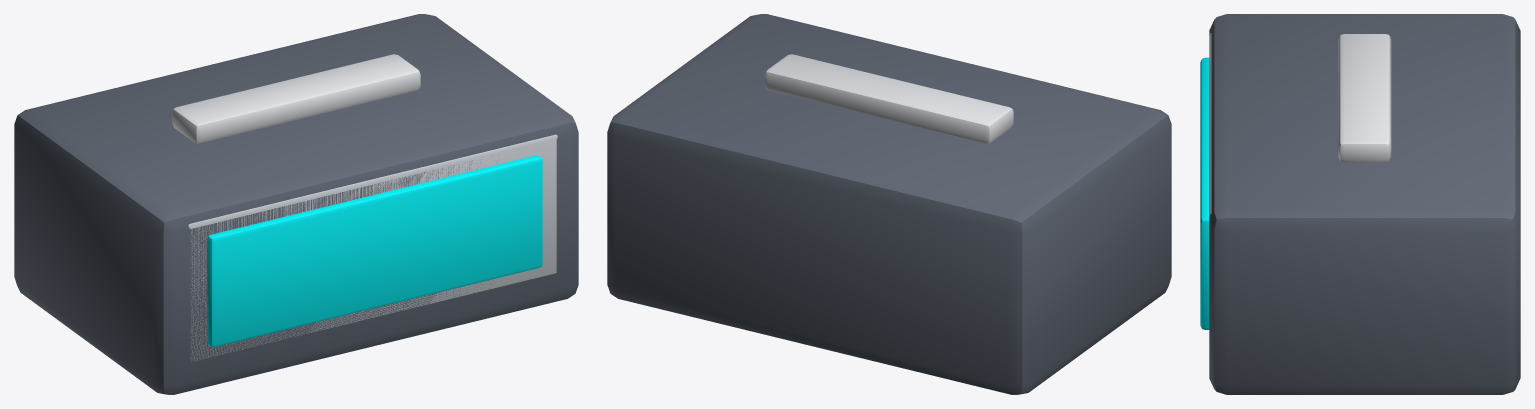
Rendered from hall_voltmeter.glb.
3 views of the same model, side by side, from view 1: azimuth 30°, elevation 25°; view 2: azimuth 150°, elevation 25°; view 3: azimuth 270°, elevation 25° (orthographic).
Parts seen in each view (by area): view 1: Cube; view 2: Cube; view 3: Cube.
Boxes of the visible parts, bbox=[...] form: Cube: bbox=[14, 14, 578, 394]; Cube: bbox=[607, 14, 1171, 394]; Cube: bbox=[1200, 14, 1520, 394].
Bounding box in the file's own units: 1.68 × 0.91 × 1.09.
